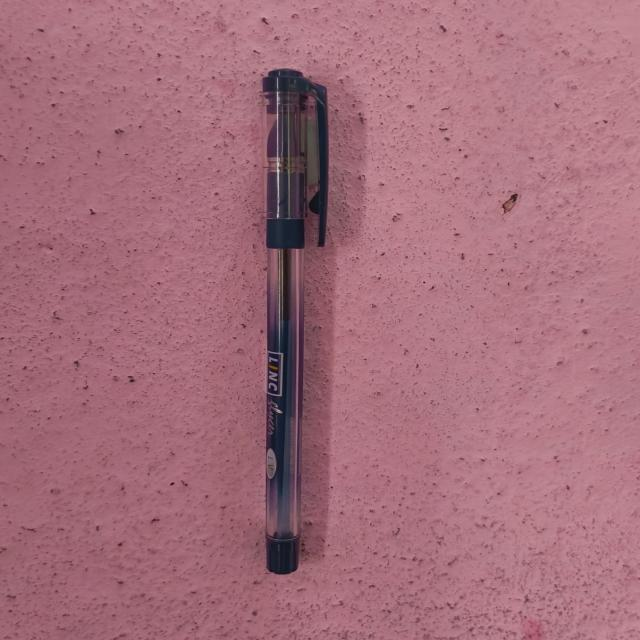blessing_card: (250, 64, 338, 582)
